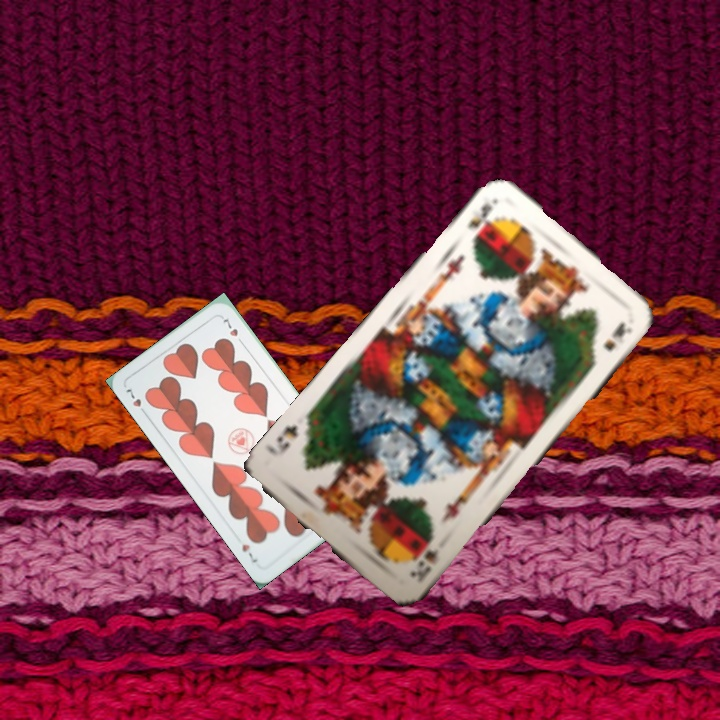H7: (121, 382, 150, 418)
SK: (405, 544, 442, 586), (462, 199, 495, 244)
